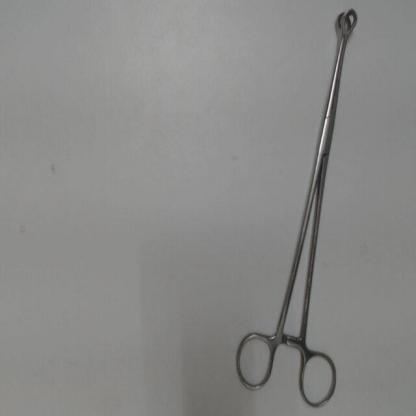8 Babcock Tissue Forceps: (230, 4, 366, 414)
